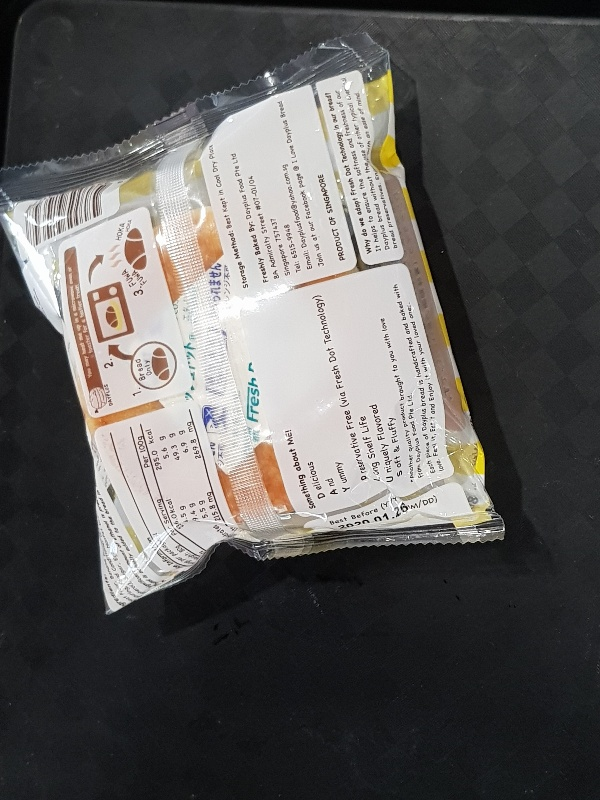Dayplus Banana: (2, 29, 506, 616)
